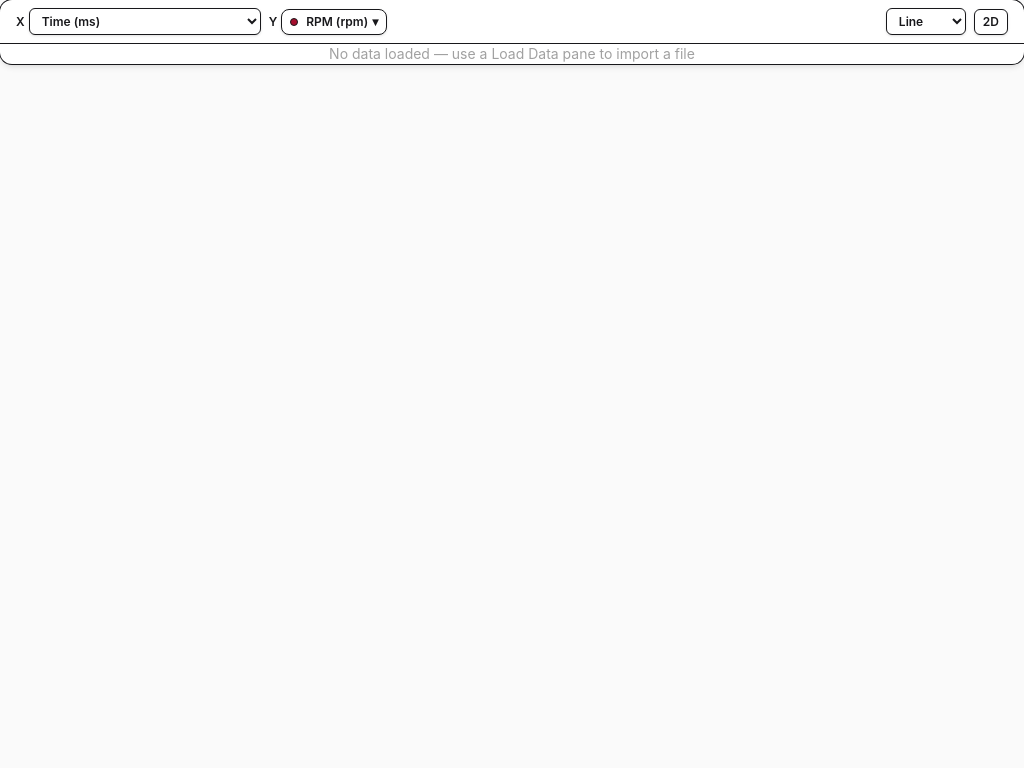
Test: GraphWidget › closes the Y dropdown when clicking outside it
What coordinates should you click on to do the following:
click the button "RPM (rpm) ▾"
I would click on:
 (334, 22)
Its box is [281,8,387,34].
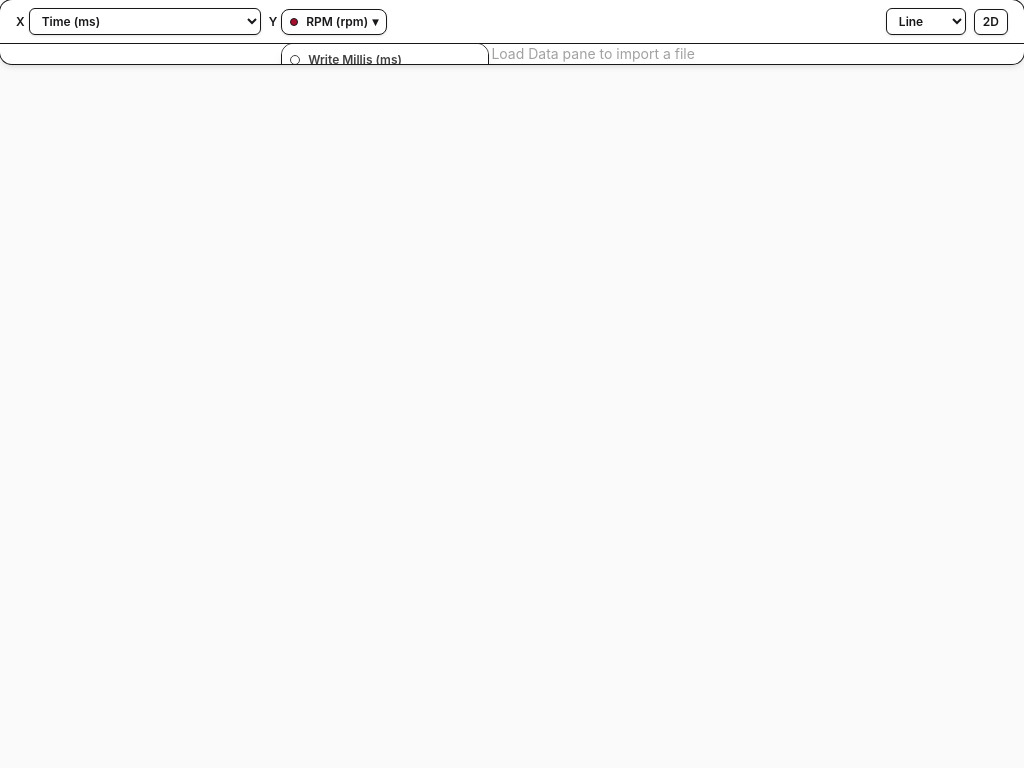
What coordinates should you click on to do the following:
click the element that starts with "RPM (rpm)"
I would click on:
 (512, 384)
Its box is [0,0,1023,767].
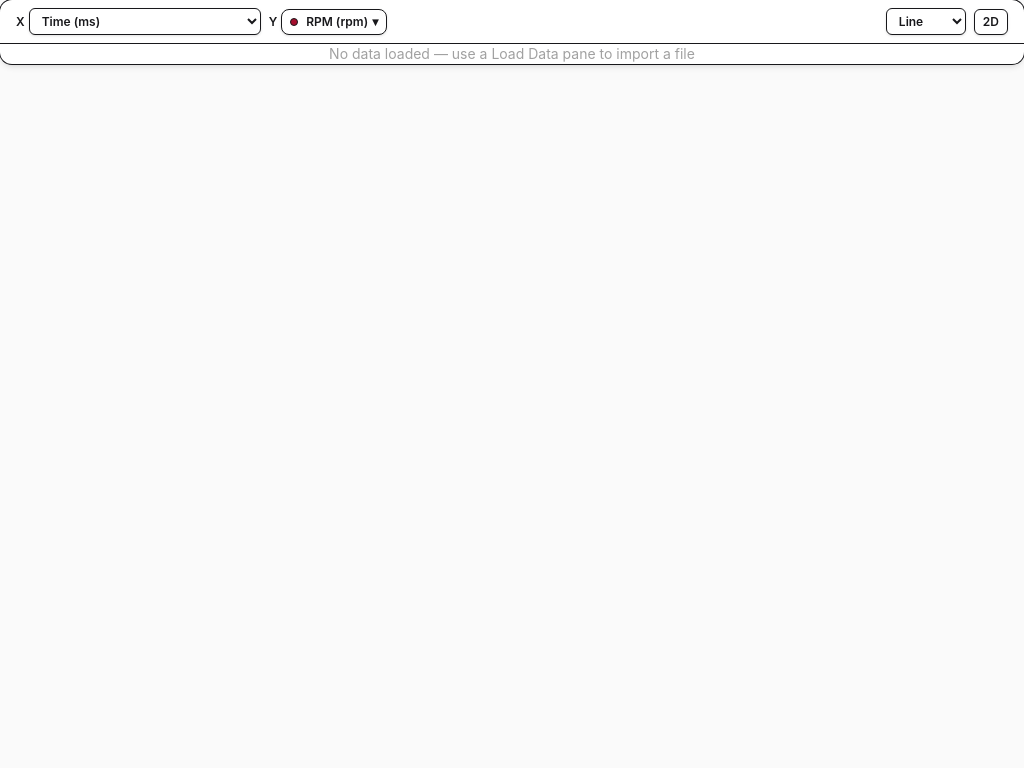
Check: the element with class "max-h-64" is gone
